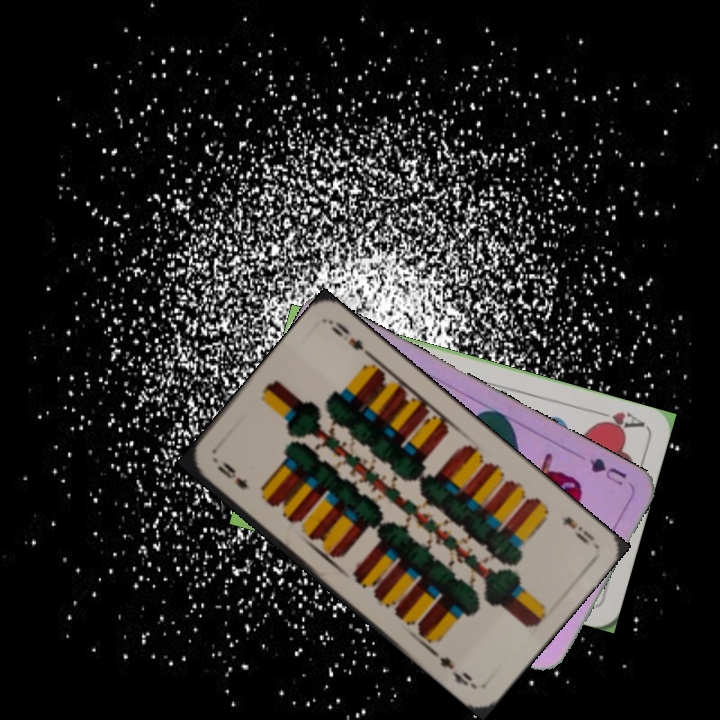E9: (213, 456, 252, 492), (557, 512, 597, 547)
GU: (585, 453, 630, 488)
HA: (588, 406, 647, 435)
